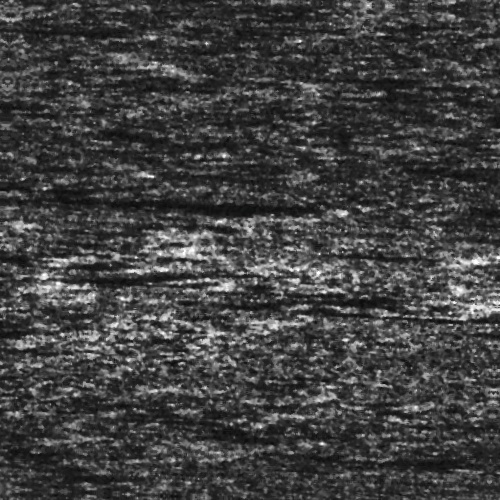object: (208, 194, 469, 215), (107, 174, 190, 181), (0, 196, 50, 205), (427, 245, 500, 250), (117, 35, 170, 40), (486, 304, 500, 309)
shadow: (61, 194, 338, 215), (231, 304, 500, 309), (0, 35, 143, 40), (329, 245, 468, 250), (77, 174, 148, 181), (0, 196, 18, 205)
